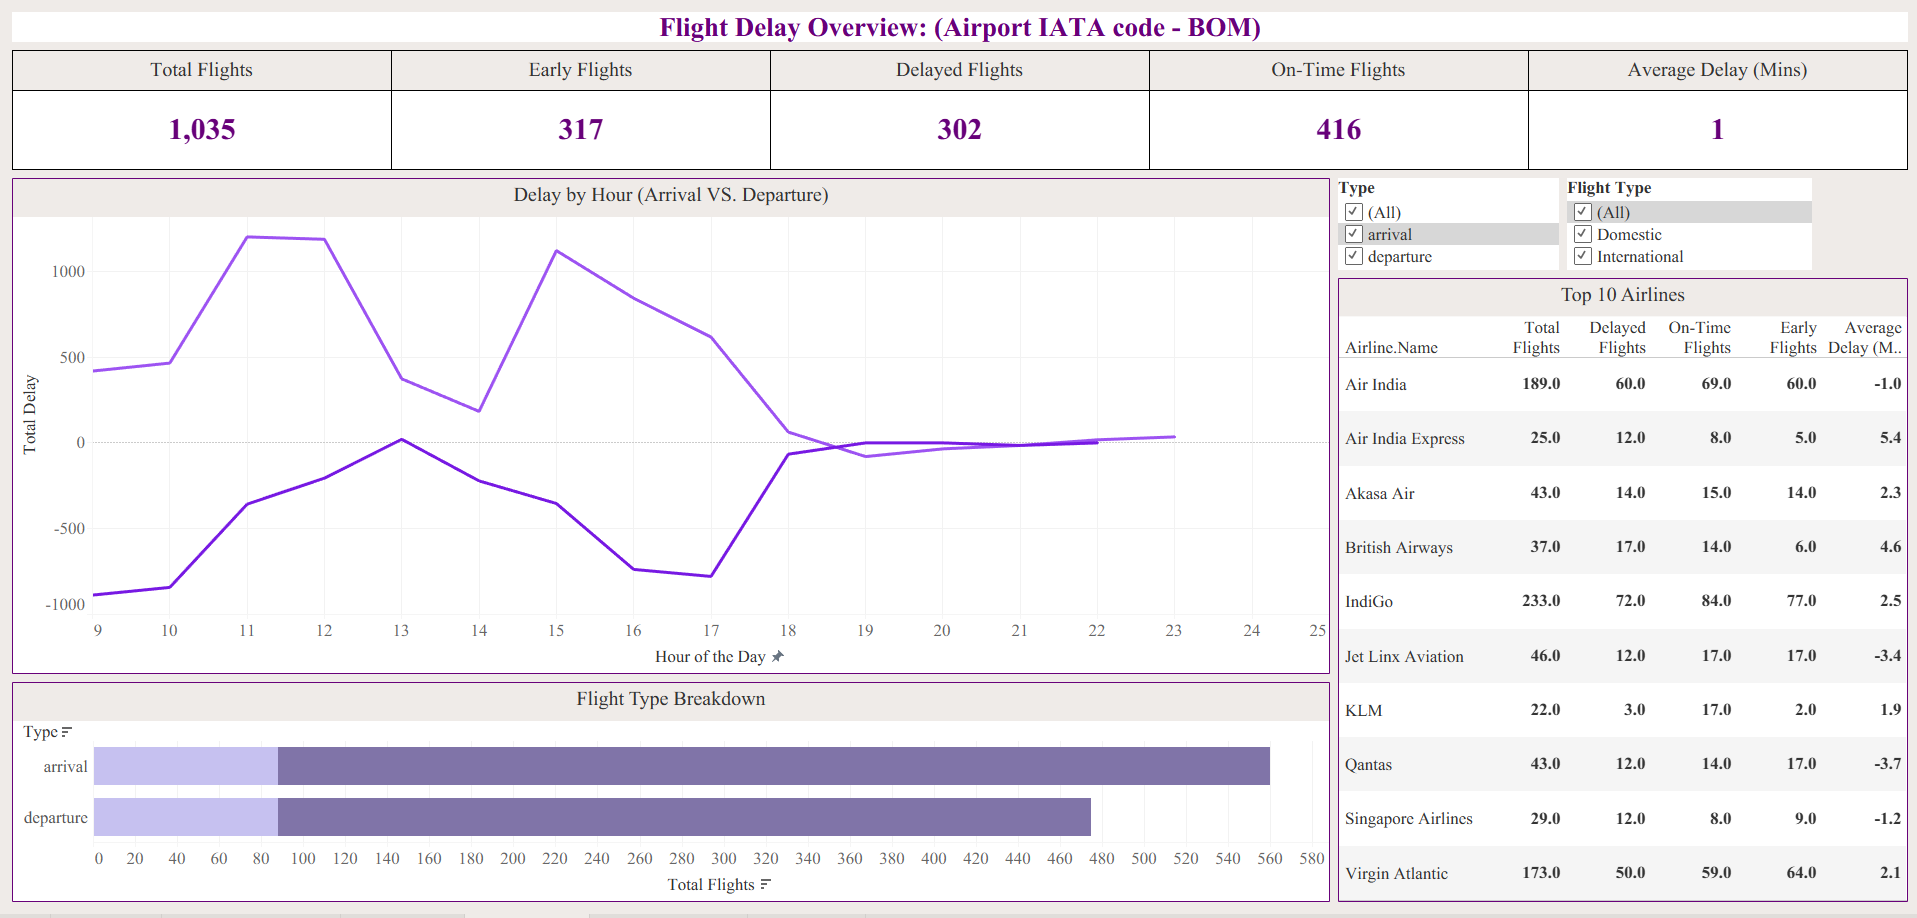

The dashboard page shown, as its layout file describes it:
{"tool":"tableau","page":{"name":"Dashboard 1","canvas":[1000,1000],"units":"permille","ordinal":0},"visuals":[{"type":"title","box":[4.9,10.6,990.2,50.2]},{"type":"worksheet","title":"KPIS","mark":"Automatic","box":[4.9,60.8,990.2,137.9]},{"type":"worksheet","title":"delay by hour","mark":"Automatic","rows":["total_delay"],"cols":["departure_hour"],"box":[4.9,198.6,689.5,544.7]},{"type":"filter","title":"delay by hour","param":"[federated.0bhg2xm03y45e51588nrt01t24do].[none:type:nk]","box":[694.4,198.6,140.2,132.1]},{"type":"filter","title":"delay by hour","param":"[federated.0bhg2xm03y45e51588nrt01t24do].[none:flight_type:nk]","box":[834.7,198.6,154.9,132.1]},{"type":"worksheet","title":"Top 10 Airlines","mark":"Automatic","rows":["airline.name"],"box":[694.4,330.7,300.7,658.6]},{"type":"worksheet","title":"Flight Type Breakdown","mark":"Automatic","rows":["type"],"cols":["Calculation_897905232622022656"],"box":[4.9,743.4,689.5,246.1]}]}

Visuals, with their boxes on the dashboard's canvas, which has no fixed pixel size, in thousandths of its width and height (x1, y1, x2, y2). These are canvas units, not pixel positions in the 1917x918 screenshot, which may show the page scaled, cropped or inside an application window:
title: left=5, top=11, right=995, bottom=61
"KPIS" worksheet: left=5, top=61, right=995, bottom=199
"delay by hour" worksheet: left=5, top=199, right=694, bottom=743
"delay by hour" filter: left=694, top=199, right=835, bottom=331
"delay by hour" filter: left=835, top=199, right=990, bottom=331
"Top 10 Airlines" worksheet: left=694, top=331, right=995, bottom=989
"Flight Type Breakdown" worksheet: left=5, top=743, right=694, bottom=990
